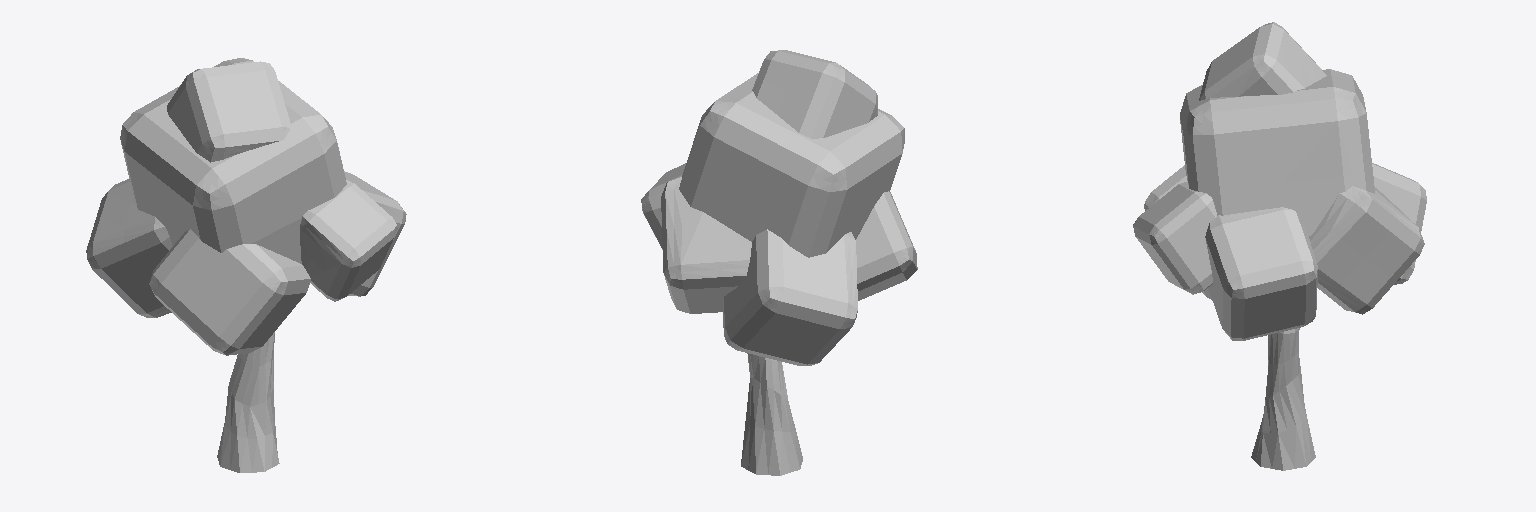
Rendered from Tree.obj.
3 views of the same model, side by side, from view 1: azimuth 30°, elevation 25°; view 2: azimuth 150°, elevation 25°; view 3: azimuth 270°, elevation 25° (orthographic).
Parts seen in each view (by area): view 1: Tree.005_Cube.009; view 2: Tree.005_Cube.009; view 3: Tree.005_Cube.009.
Boxes of the visible parts, box(x1,y1,x2,y2) form: Tree.005_Cube.009: box(86, 58, 406, 472); Tree.005_Cube.009: box(641, 50, 917, 475); Tree.005_Cube.009: box(1133, 22, 1426, 470).
Bounding box in the file's own units: 3.61 × 5.51 × 3.6.